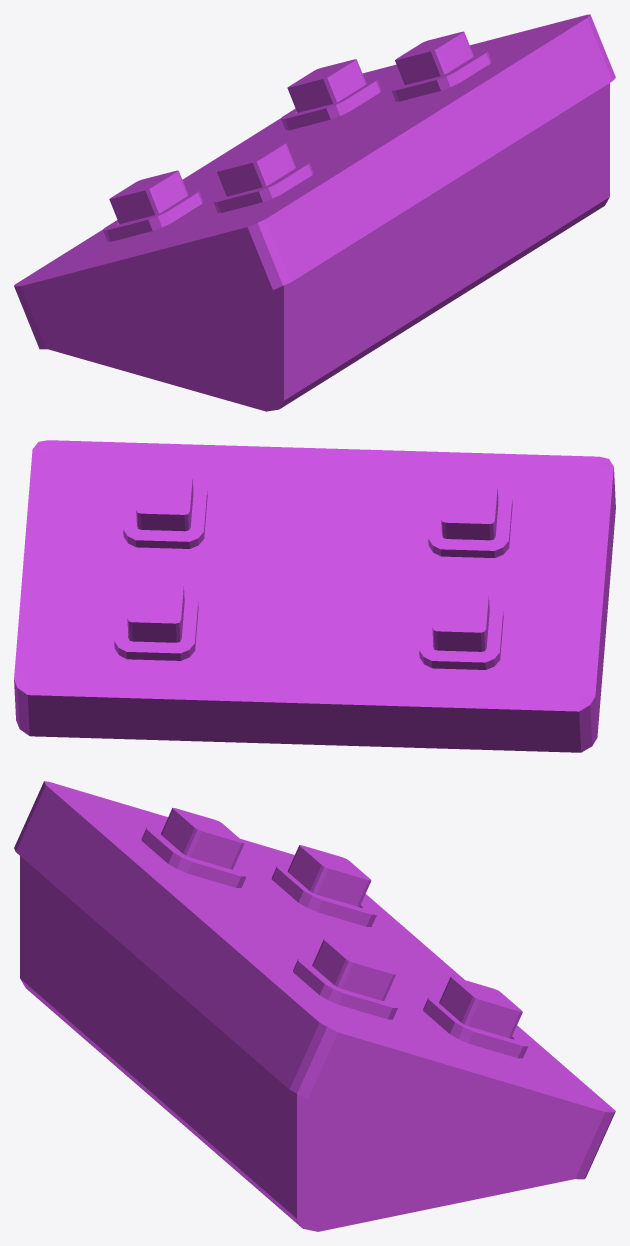
The model's file is CameraButtons.fbx.
3 views of the same model, one above another, from view 1: azimuth 30°, elevation 25°; view 2: azimuth 150°, elevation 25°; view 3: azimuth 270°, elevation 25° (orthographic). The views are drawn at different scales.
Visible parts, largest first — view 1: CameraPanel, ButtonBotLeft, ButtonBotRight, ButtonTopRight, ButtonTopLeft; view 2: CameraPanel, ButtonBotRight, ButtonBotLeft, ButtonTopLeft, ButtonTopRight; view 3: CameraPanel, ButtonBotRight, ButtonBotLeft, ButtonTopRight, ButtonTopLeft.
Part boxes in pixels (<box>): CameraPanel: <box>14,14,615,411</box>; ButtonBotLeft: <box>287,59,366,112</box>; ButtonBotRight: <box>109,170,188,224</box>; ButtonTopRight: <box>217,143,295,196</box>; ButtonTopLeft: <box>395,31,473,84</box>; CameraPanel: <box>14,440,615,752</box>; ButtonBotRight: <box>432,589,489,651</box>; ButtonBotLeft: <box>127,580,184,642</box>; ButtonTopLeft: <box>136,471,193,531</box>; ButtonTopRight: <box>441,480,498,540</box>; CameraPanel: <box>14,781,615,1231</box>; ButtonBotRight: <box>287,845,371,907</box>; ButtonBotLeft: <box>439,976,522,1038</box>; ButtonTopRight: <box>161,807,244,869</box>; ButtonTopLeft: <box>312,939,395,1000</box>.
Bounding box in the file's own units: 18.32 × 14.93 × 5.86.
